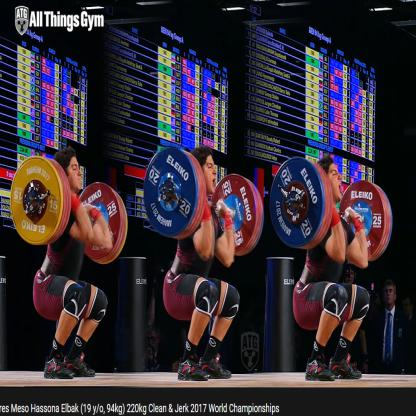Barbell: (5, 145, 70, 253), (138, 144, 206, 245), (267, 153, 329, 253)
